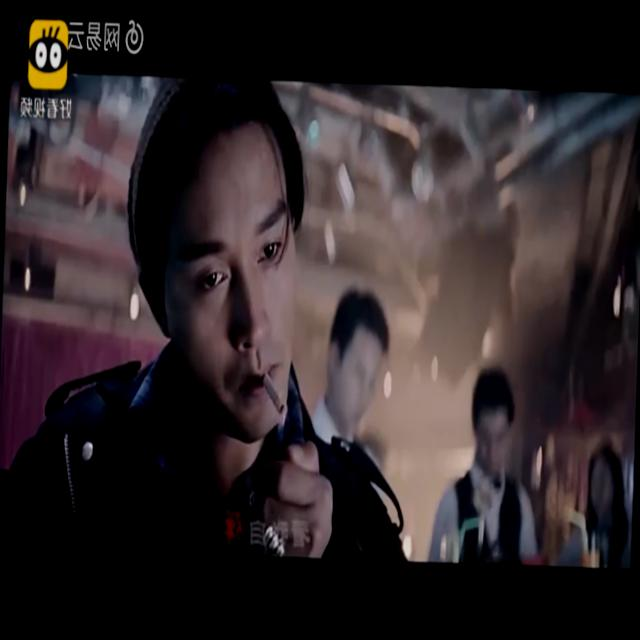smoke: (256, 368, 291, 420)
